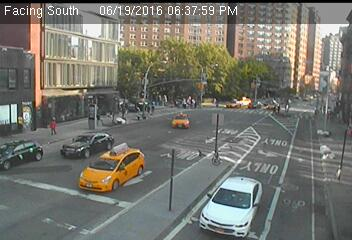neg: (333, 151, 351, 180), (283, 97, 295, 112), (269, 95, 279, 108)
pos: (44, 113, 62, 137), (148, 98, 159, 113), (118, 103, 128, 117), (178, 95, 188, 109)
